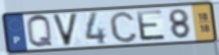4: (84, 11, 110, 46)
8: (166, 8, 192, 40)
C: (108, 10, 139, 44)
E: (134, 8, 168, 42)
Q: (25, 14, 55, 50)
V: (50, 12, 80, 48)
